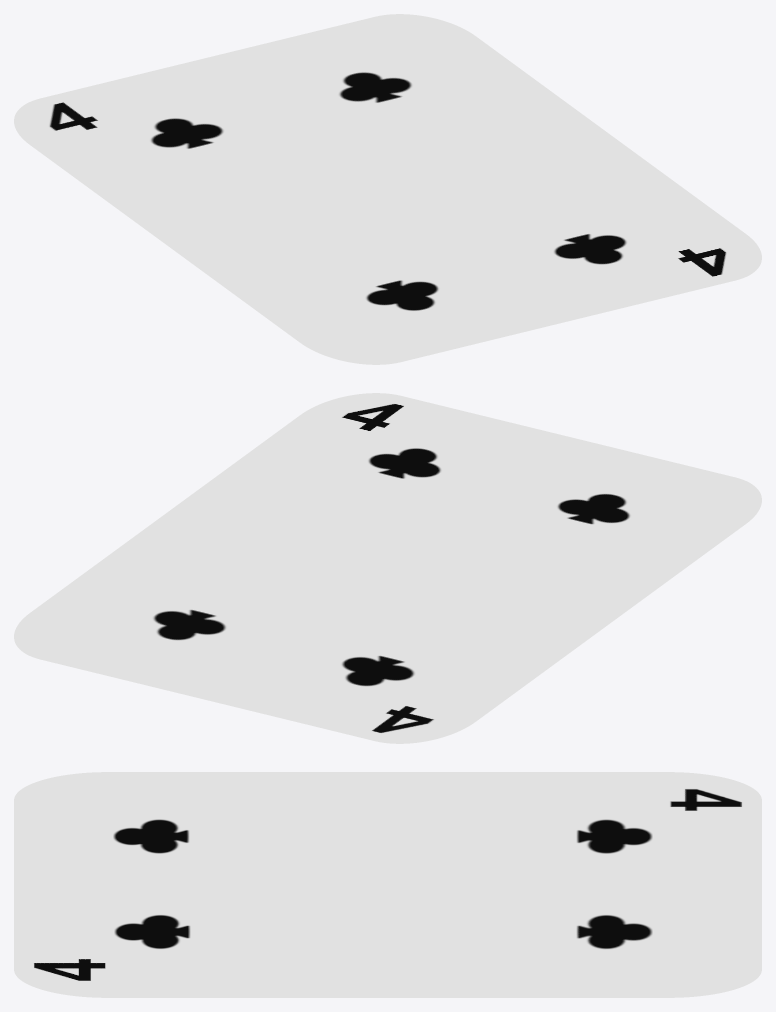
Rendered from Clubs4.fbx.
The picture shows the model from 3 angles, top to bottom: view 1: azimuth 30°, elevation 25°; view 2: azimuth 150°, elevation 25°; view 3: azimuth 270°, elevation 25°; orthographic projection. The views are drawn at different scales.
Parts seen in each view (by area): view 1: Plane.003; view 2: Plane.003; view 3: Plane.003.
Part boxes in pixels (x1,y1,x2,y2): Plane.003: (14, 14, 761, 364); Plane.003: (14, 393, 761, 743); Plane.003: (14, 772, 761, 997).
Size of the model in its own units: 500 by 0 by 700.
1 material, 1 textured.
